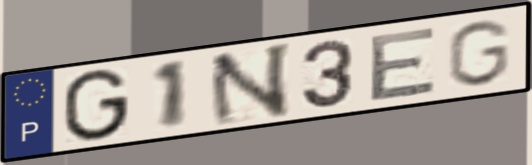1: (149, 56, 190, 133)
3: (297, 38, 356, 110)
E: (366, 23, 440, 104)
G: (61, 67, 133, 144), (444, 17, 514, 89)
N: (206, 39, 295, 129)
